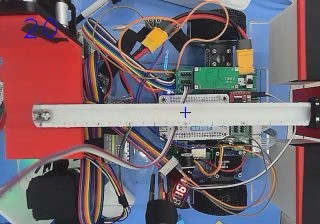ironball: (40, 110, 50, 120)
